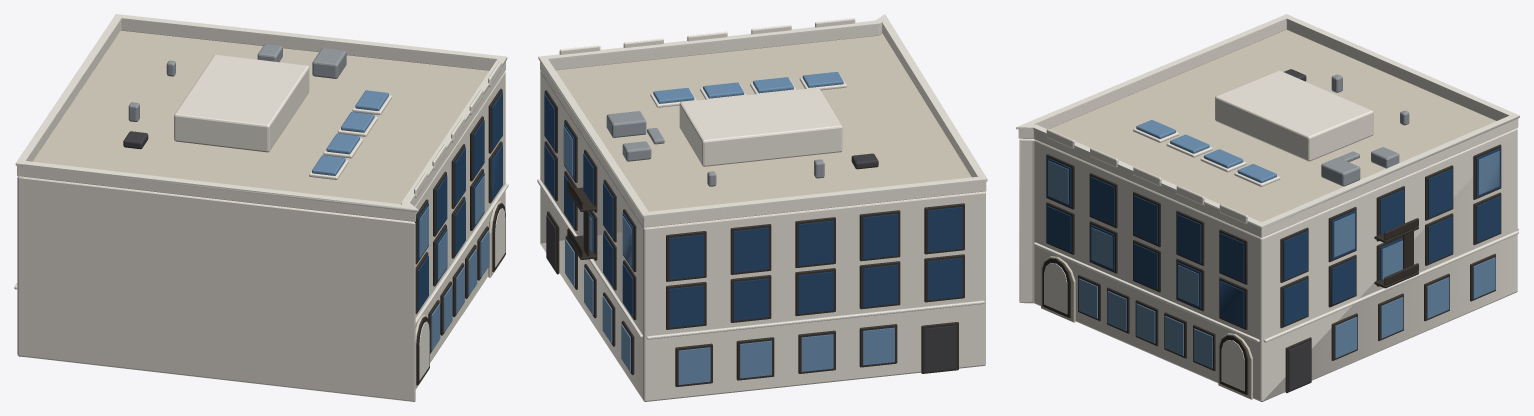
The model's file is mid.glb.
The picture shows the model from 3 angles, left to right: view 1: azimuth 30°, elevation 25°; view 2: azimuth 150°, elevation 25°; view 3: azimuth 270°, elevation 25°; orthographic projection. The views are drawn at different scales.
Parts seen in each view (by area): view 1: body, grp_Toy_cream, grp_Toy_trim, grp_Toy_ink, grp_Toy_glass, grp_Toy_glassl, grp_Toy_steel, grp_Toy_glass_Glow, grp_Toy_trim_Glow, grp_Toy_stone; view 2: body, grp_Toy_cream, grp_Toy_glass, grp_Toy_ink, grp_Toy_trim, grp_Toy_glassl, grp_Toy_roofd, grp_Toy_steel, grp_Toy_glass_Glow; view 3: body, grp_Toy_cream, grp_Toy_glass, grp_Toy_ink, grp_Toy_trim, grp_Toy_glassl, grp_Toy_glass_Glow, grp_Toy_trim_Glow, grp_Toy_steel, grp_Toy_roofd, grp_Toy_stone.
Boxes of the visible parts, bbox=[...] form: body: bbox=[17, 30, 505, 401]; grp_Toy_cream: bbox=[17, 20, 505, 221]; grp_Toy_trim: bbox=[14, 14, 508, 324]; grp_Toy_ink: bbox=[414, 88, 505, 385]; grp_Toy_glass: bbox=[417, 92, 502, 310]; grp_Toy_glassl: bbox=[312, 90, 489, 350]; grp_Toy_steel: bbox=[128, 44, 346, 121]; grp_Toy_glass_Glow: bbox=[419, 176, 484, 279]; grp_Toy_trim_Glow: bbox=[419, 208, 505, 380]; grp_Toy_stone: bbox=[415, 201, 504, 389]; body: bbox=[540, 33, 985, 401]; grp_Toy_cream: bbox=[540, 18, 986, 227]; grp_Toy_glass: bbox=[544, 94, 962, 327]; grp_Toy_ink: bbox=[544, 90, 964, 386]; grp_Toy_trim: bbox=[537, 14, 987, 339]; grp_Toy_glassl: bbox=[565, 72, 894, 384]; grp_Toy_roofd: bbox=[546, 153, 956, 371]; grp_Toy_steel: bbox=[606, 111, 824, 186]; grp_Toy_glass_Glow: bbox=[563, 127, 631, 265]; body: bbox=[1019, 29, 1517, 401]; grp_Toy_cream: bbox=[1018, 20, 1518, 237]; grp_Toy_glass: bbox=[1047, 148, 1500, 327]; grp_Toy_ink: bbox=[1042, 144, 1501, 394]; grp_Toy_trim: bbox=[1016, 14, 1519, 342]; grp_Toy_glassl: bbox=[1078, 120, 1495, 368]; grp_Toy_glass_Glow: bbox=[1048, 151, 1499, 306]; grp_Toy_trim_Glow: bbox=[1044, 263, 1244, 391]; grp_Toy_steel: bbox=[1321, 74, 1409, 186]; grp_Toy_roofd: bbox=[1284, 69, 1310, 390]; grp_Toy_stone: bbox=[1041, 256, 1252, 399].
Bounding box in the file's own units: 33.27 × 13.85 × 33.3.
